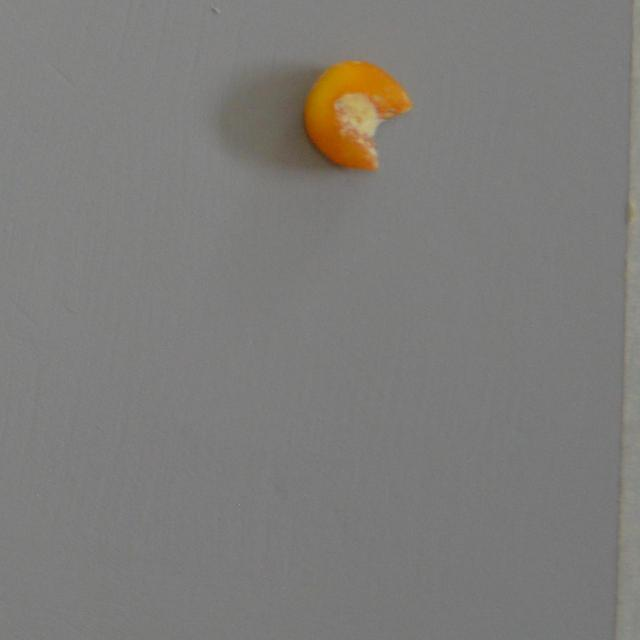dañado: (298, 57, 414, 173)
